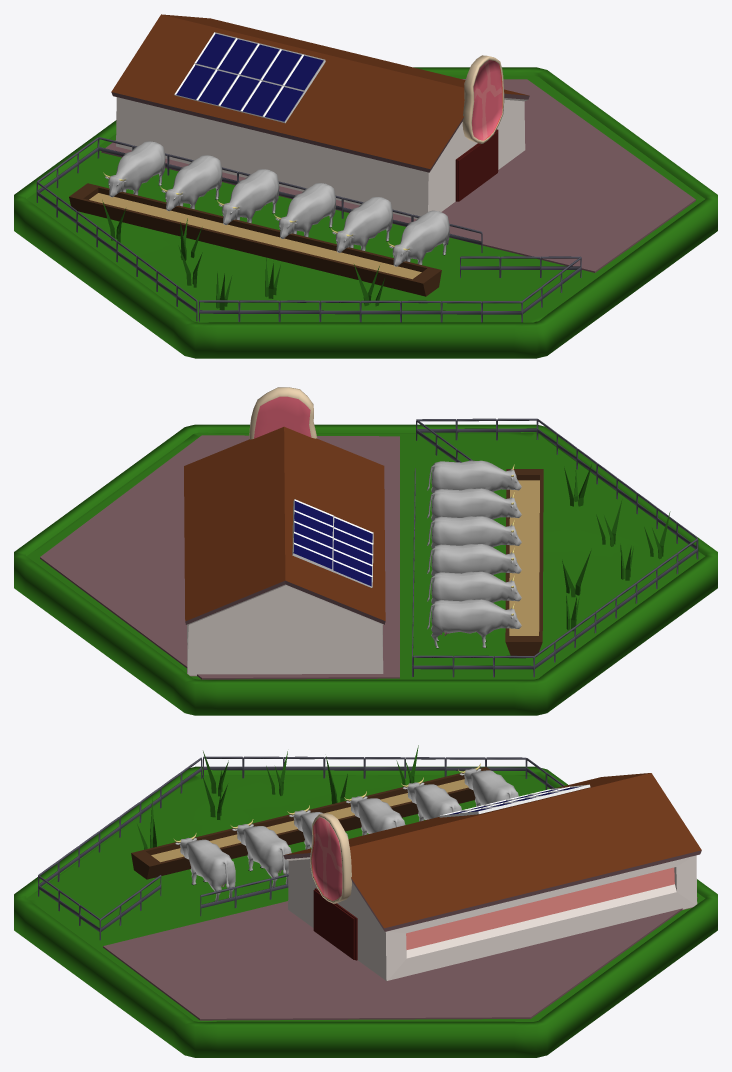
Rendered from Meat_Production_Tile.fbx.
3 renders of one model, top to bottom at view 1: azimuth 30°, elevation 25°; view 2: azimuth 150°, elevation 25°; view 3: azimuth 270°, elevation 25°, orthographic.
Parts seen in each view (by area): view 1: Cube.003, Cylinder.003; view 2: Cube.003, Cylinder.003; view 3: Cube.003, Cylinder.003.
Part boxes in pixels (x1,y1,x2,y2): Cube.003: (27,14,704,322); Cylinder.003: (14,67,717,358); Cube.003: (26,387,705,679); Cylinder.003: (14,424,717,715); Cube.003: (26,745,705,1021); Cylinder.003: (14,766,717,1057).
Size of the model in its own units: 114 by 28.59 by 100.
